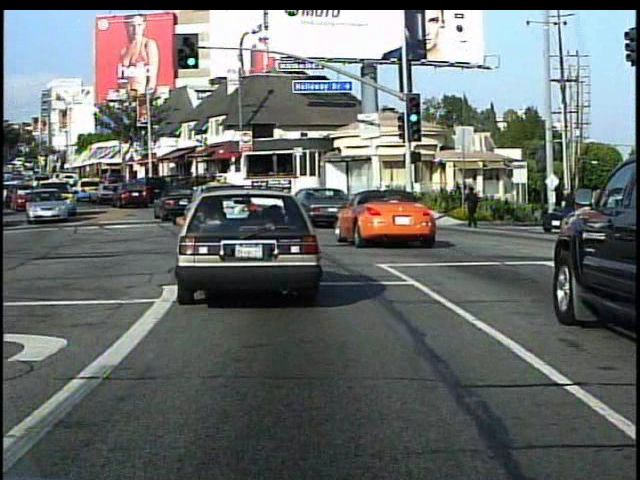person: (553, 183, 576, 242), (461, 182, 482, 230)
